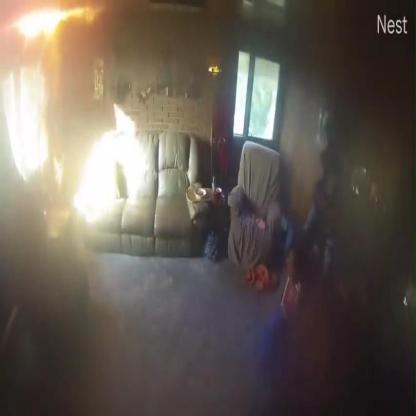fire: (6, 5, 101, 47)
